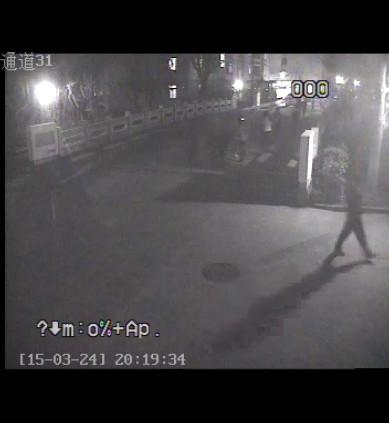person: (330, 171, 381, 262), (181, 113, 202, 171), (215, 120, 231, 168), (257, 112, 275, 150), (235, 116, 249, 159)
